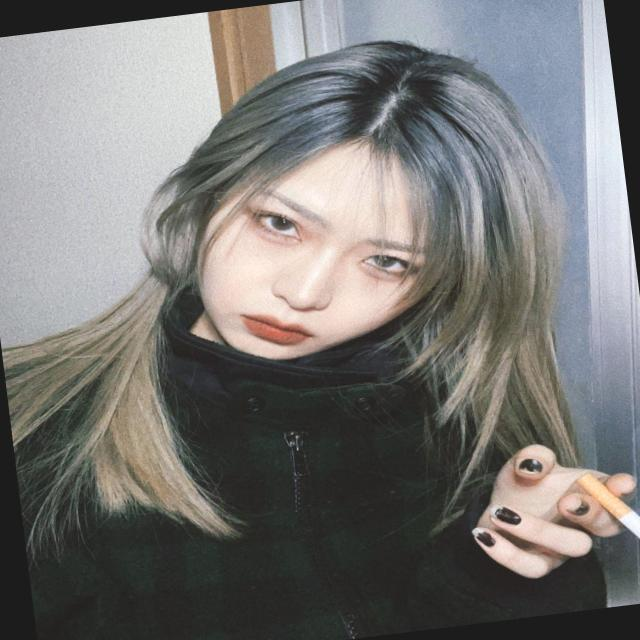smoke: (522, 444, 640, 585)
